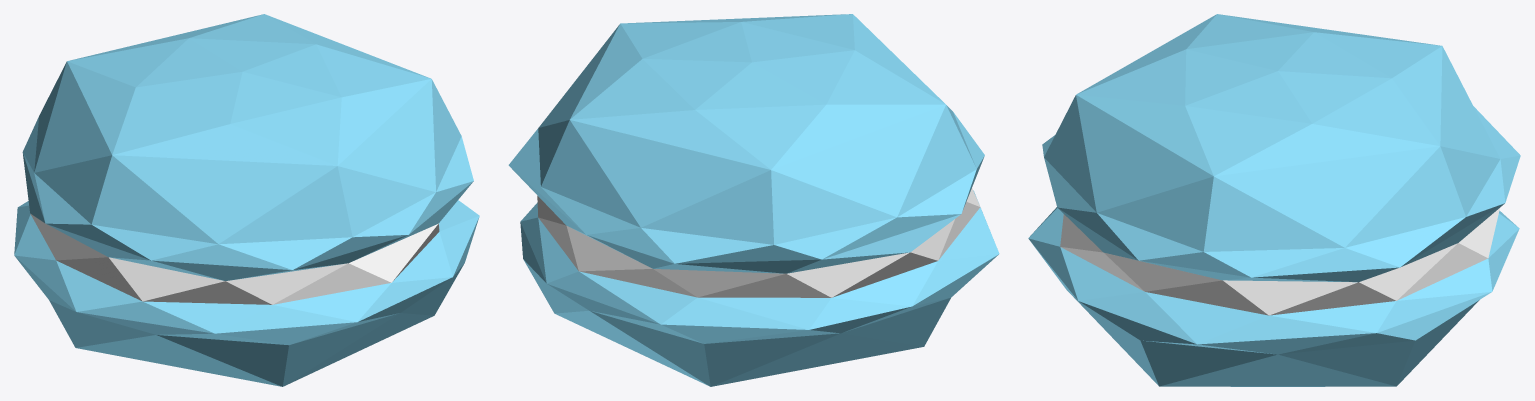
The model's file is macaron_blue.fbx.
3 renders of one model, left to right at view 1: azimuth 30°, elevation 25°; view 2: azimuth 150°, elevation 25°; view 3: azimuth 270°, elevation 25°, orthographic. The views are drawn at different scales.
Visible parts, largest first — view 1: macaronblue; view 2: macaronblue; view 3: macaronblue.
Part boxes in pixels (<box>): macaronblue: <box>14,14,479,386</box>; macaronblue: <box>508,14,999,386</box>; macaronblue: <box>1028,14,1520,386</box>.
Size of the model in its own units: 4.97 by 3.07 by 5.02.
